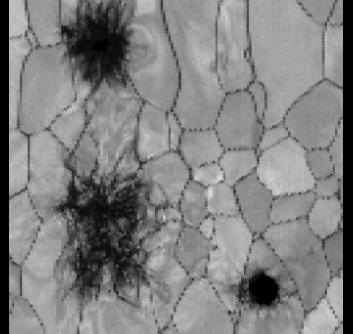good_void: (52, 151, 176, 312), (61, 0, 138, 93), (244, 266, 282, 310), (210, 242, 222, 252), (226, 307, 237, 316), (157, 242, 164, 251), (172, 216, 178, 223)
